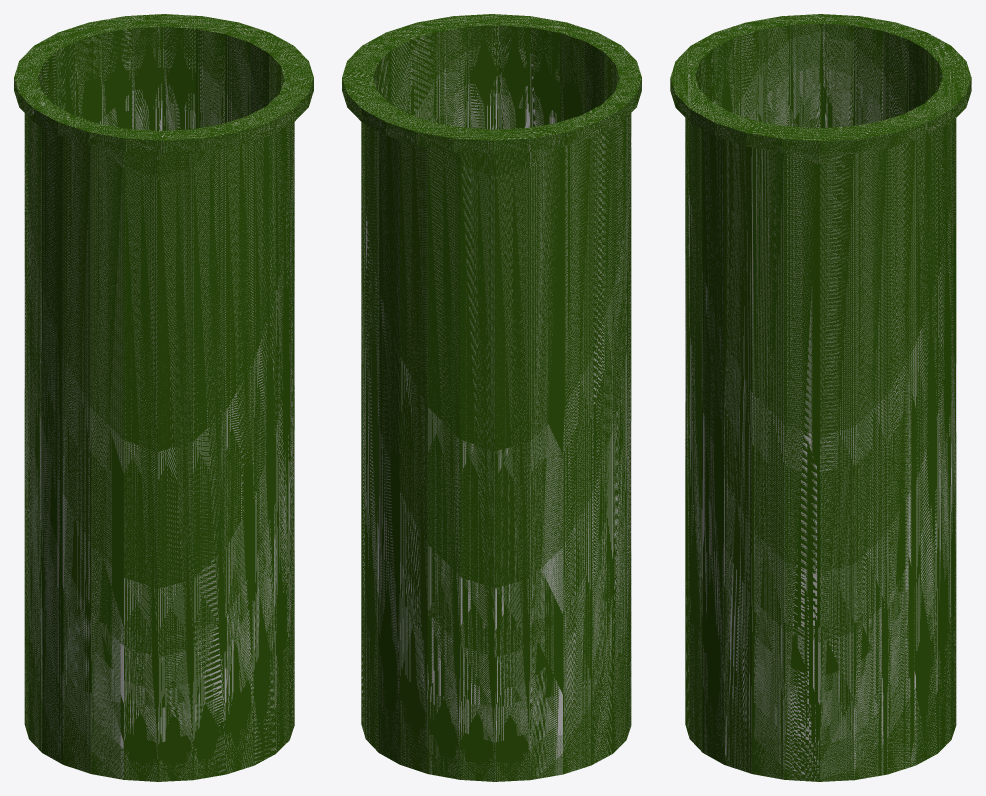
The picture shows the model from 3 angles, left to right: view 1: azimuth 30°, elevation 25°; view 2: azimuth 150°, elevation 25°; view 3: azimuth 270°, elevation 25°; orthographic projection.
Parts seen in each view (by area): view 1: mesh1_mesh1-geometry; view 2: mesh1_mesh1-geometry; view 3: mesh1_mesh1-geometry.
Boxes of the visible parts, x1,y1,x2,y2 form: mesh1_mesh1-geometry: [14, 14, 313, 781]; mesh1_mesh1-geometry: [342, 14, 641, 781]; mesh1_mesh1-geometry: [670, 14, 971, 781].
Size of the model in its own units: 0.3613 by 0.8596 by 0.3613.
